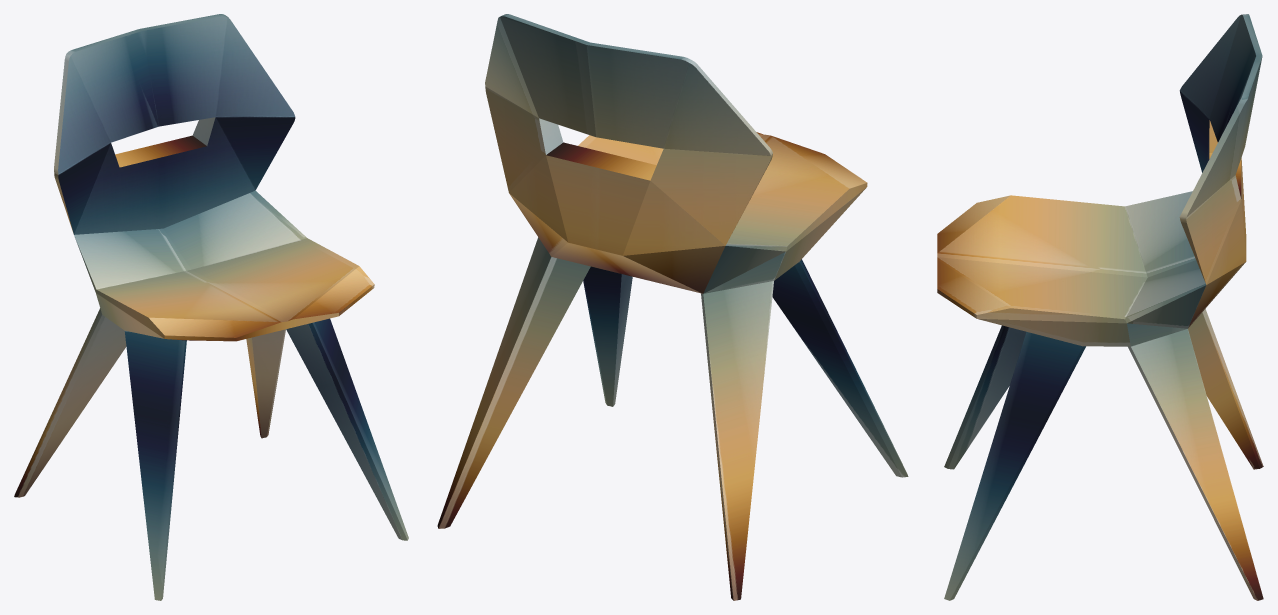
The model's file is chair-model-08.glb.
3 views of the same model, side by side, from view 1: azimuth 30°, elevation 25°; view 2: azimuth 150°, elevation 25°; view 3: azimuth 270°, elevation 25° (orthographic). The views are drawn at different scales.
Parts seen in each view (by area): view 1: 11.008; view 2: 11.008; view 3: 11.008.
Part boxes in pixels (<box>): 11.008: <box>14,14,408,600</box>; 11.008: <box>437,14,908,600</box>; 11.008: <box>937,14,1263,600</box>.
Size of the model in its own units: 3.13 by 5.14 by 3.18.
1 material, 1 textured.
